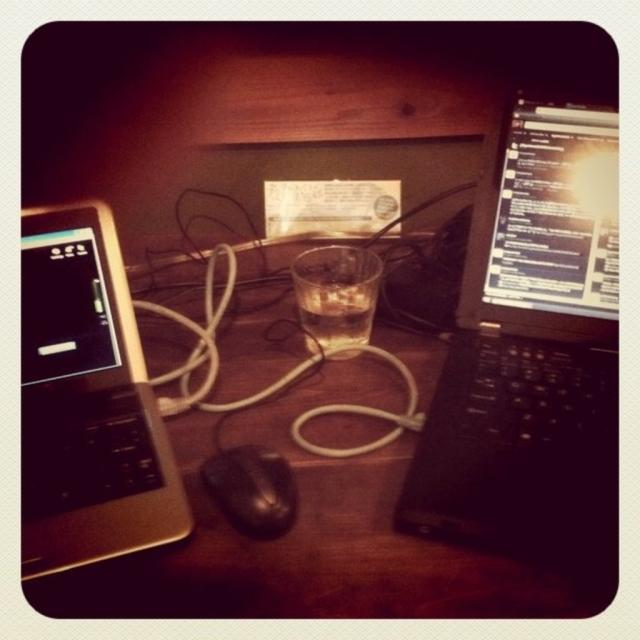Computer-mouse: (205, 446, 297, 536)
